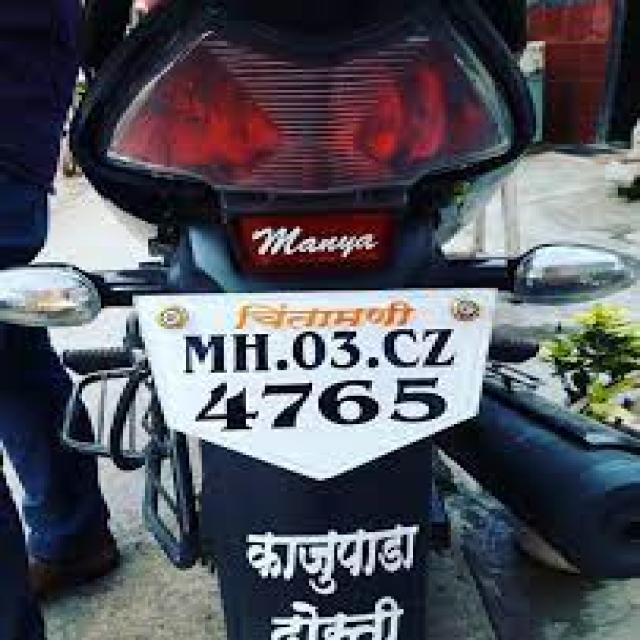number plate: (129, 282, 498, 476)
